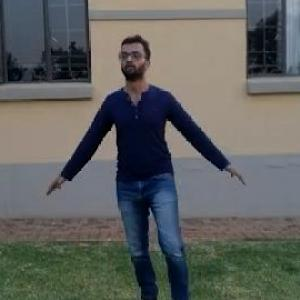land: (63, 29, 261, 289)
